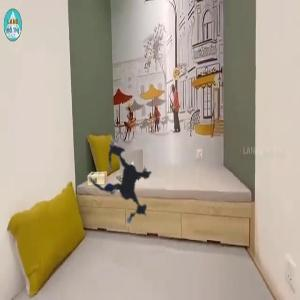drone: (52, 107, 204, 259)
